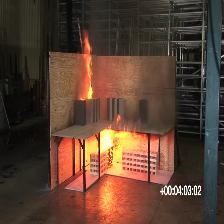fire: (102, 114, 141, 165), (82, 29, 93, 99)
